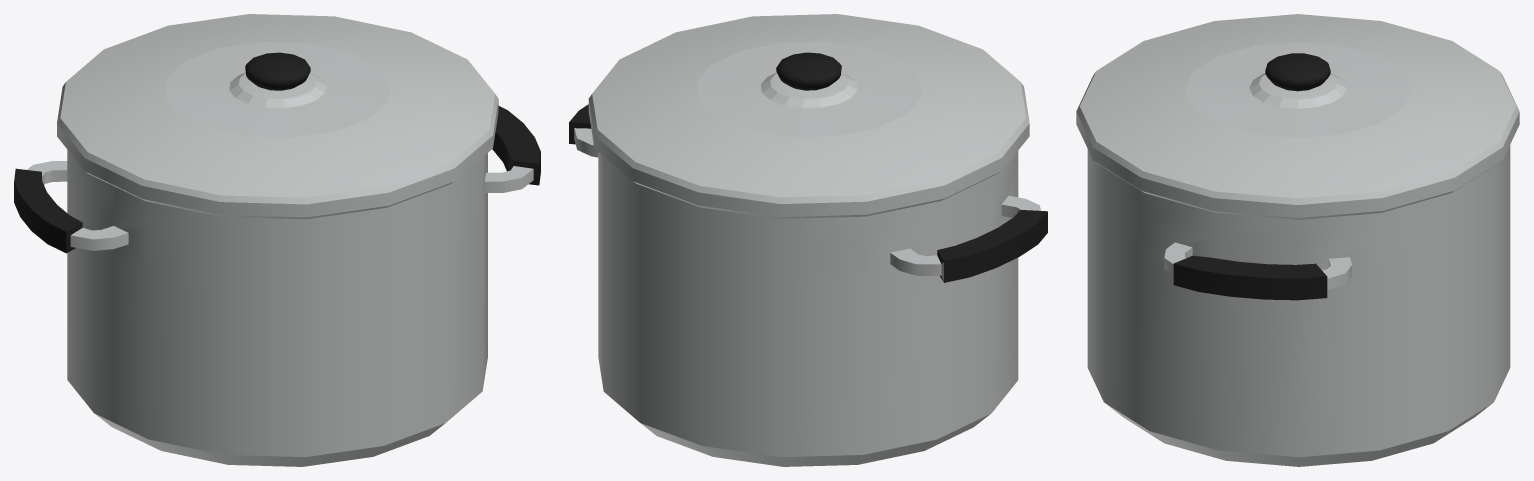
Rendered from pot.fbx.
3 renders of one model, left to right at view 1: azimuth 30°, elevation 25°; view 2: azimuth 150°, elevation 25°; view 3: azimuth 270°, elevation 25°, orthographic.
Visible parts, largest first — view 1: pCylinder9, pCylinder10, pSphere4; view 2: pCylinder9, pCylinder10, pSphere4; view 3: pCylinder9, pCylinder10, pSphere4.
Boxes of the visible parts, x1=… form: pCylinder9: x1=14, y1=106, x2=540, y2=466; pCylinder10: x1=57, y1=14, x2=498, y2=219; pSphere4: x1=245, y1=52, x2=310, y2=90; pCylinder9: x1=569, y1=104, x2=1047, y2=466; pCylinder10: x1=588, y1=14, x2=1029, y2=218; pSphere4: x1=776, y1=52, x2=841, y2=90; pCylinder9: x1=1087, y1=145, x2=1510, y2=466; pCylinder10: x1=1076, y1=14, x2=1519, y2=219; pSphere4: x1=1265, y1=53, x2=1330, y2=91.
Bounding box in the file's own units: 0.4692 × 0.3183 × 0.3934.
